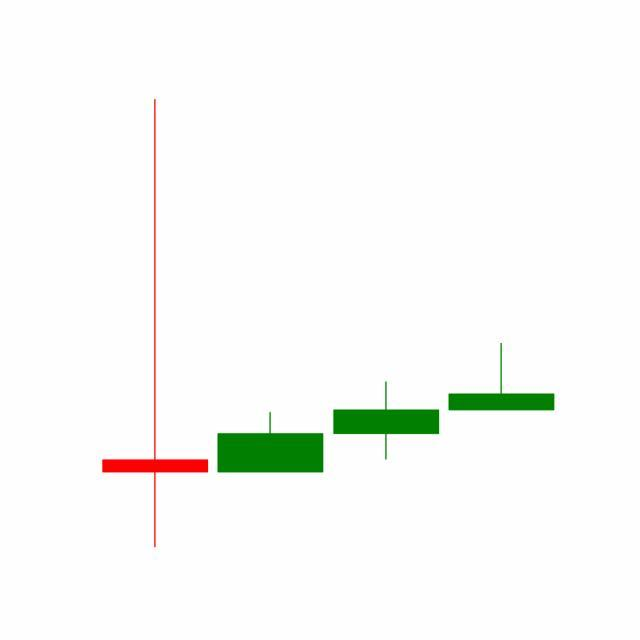Gravestone Doji: (444, 343, 560, 412)
